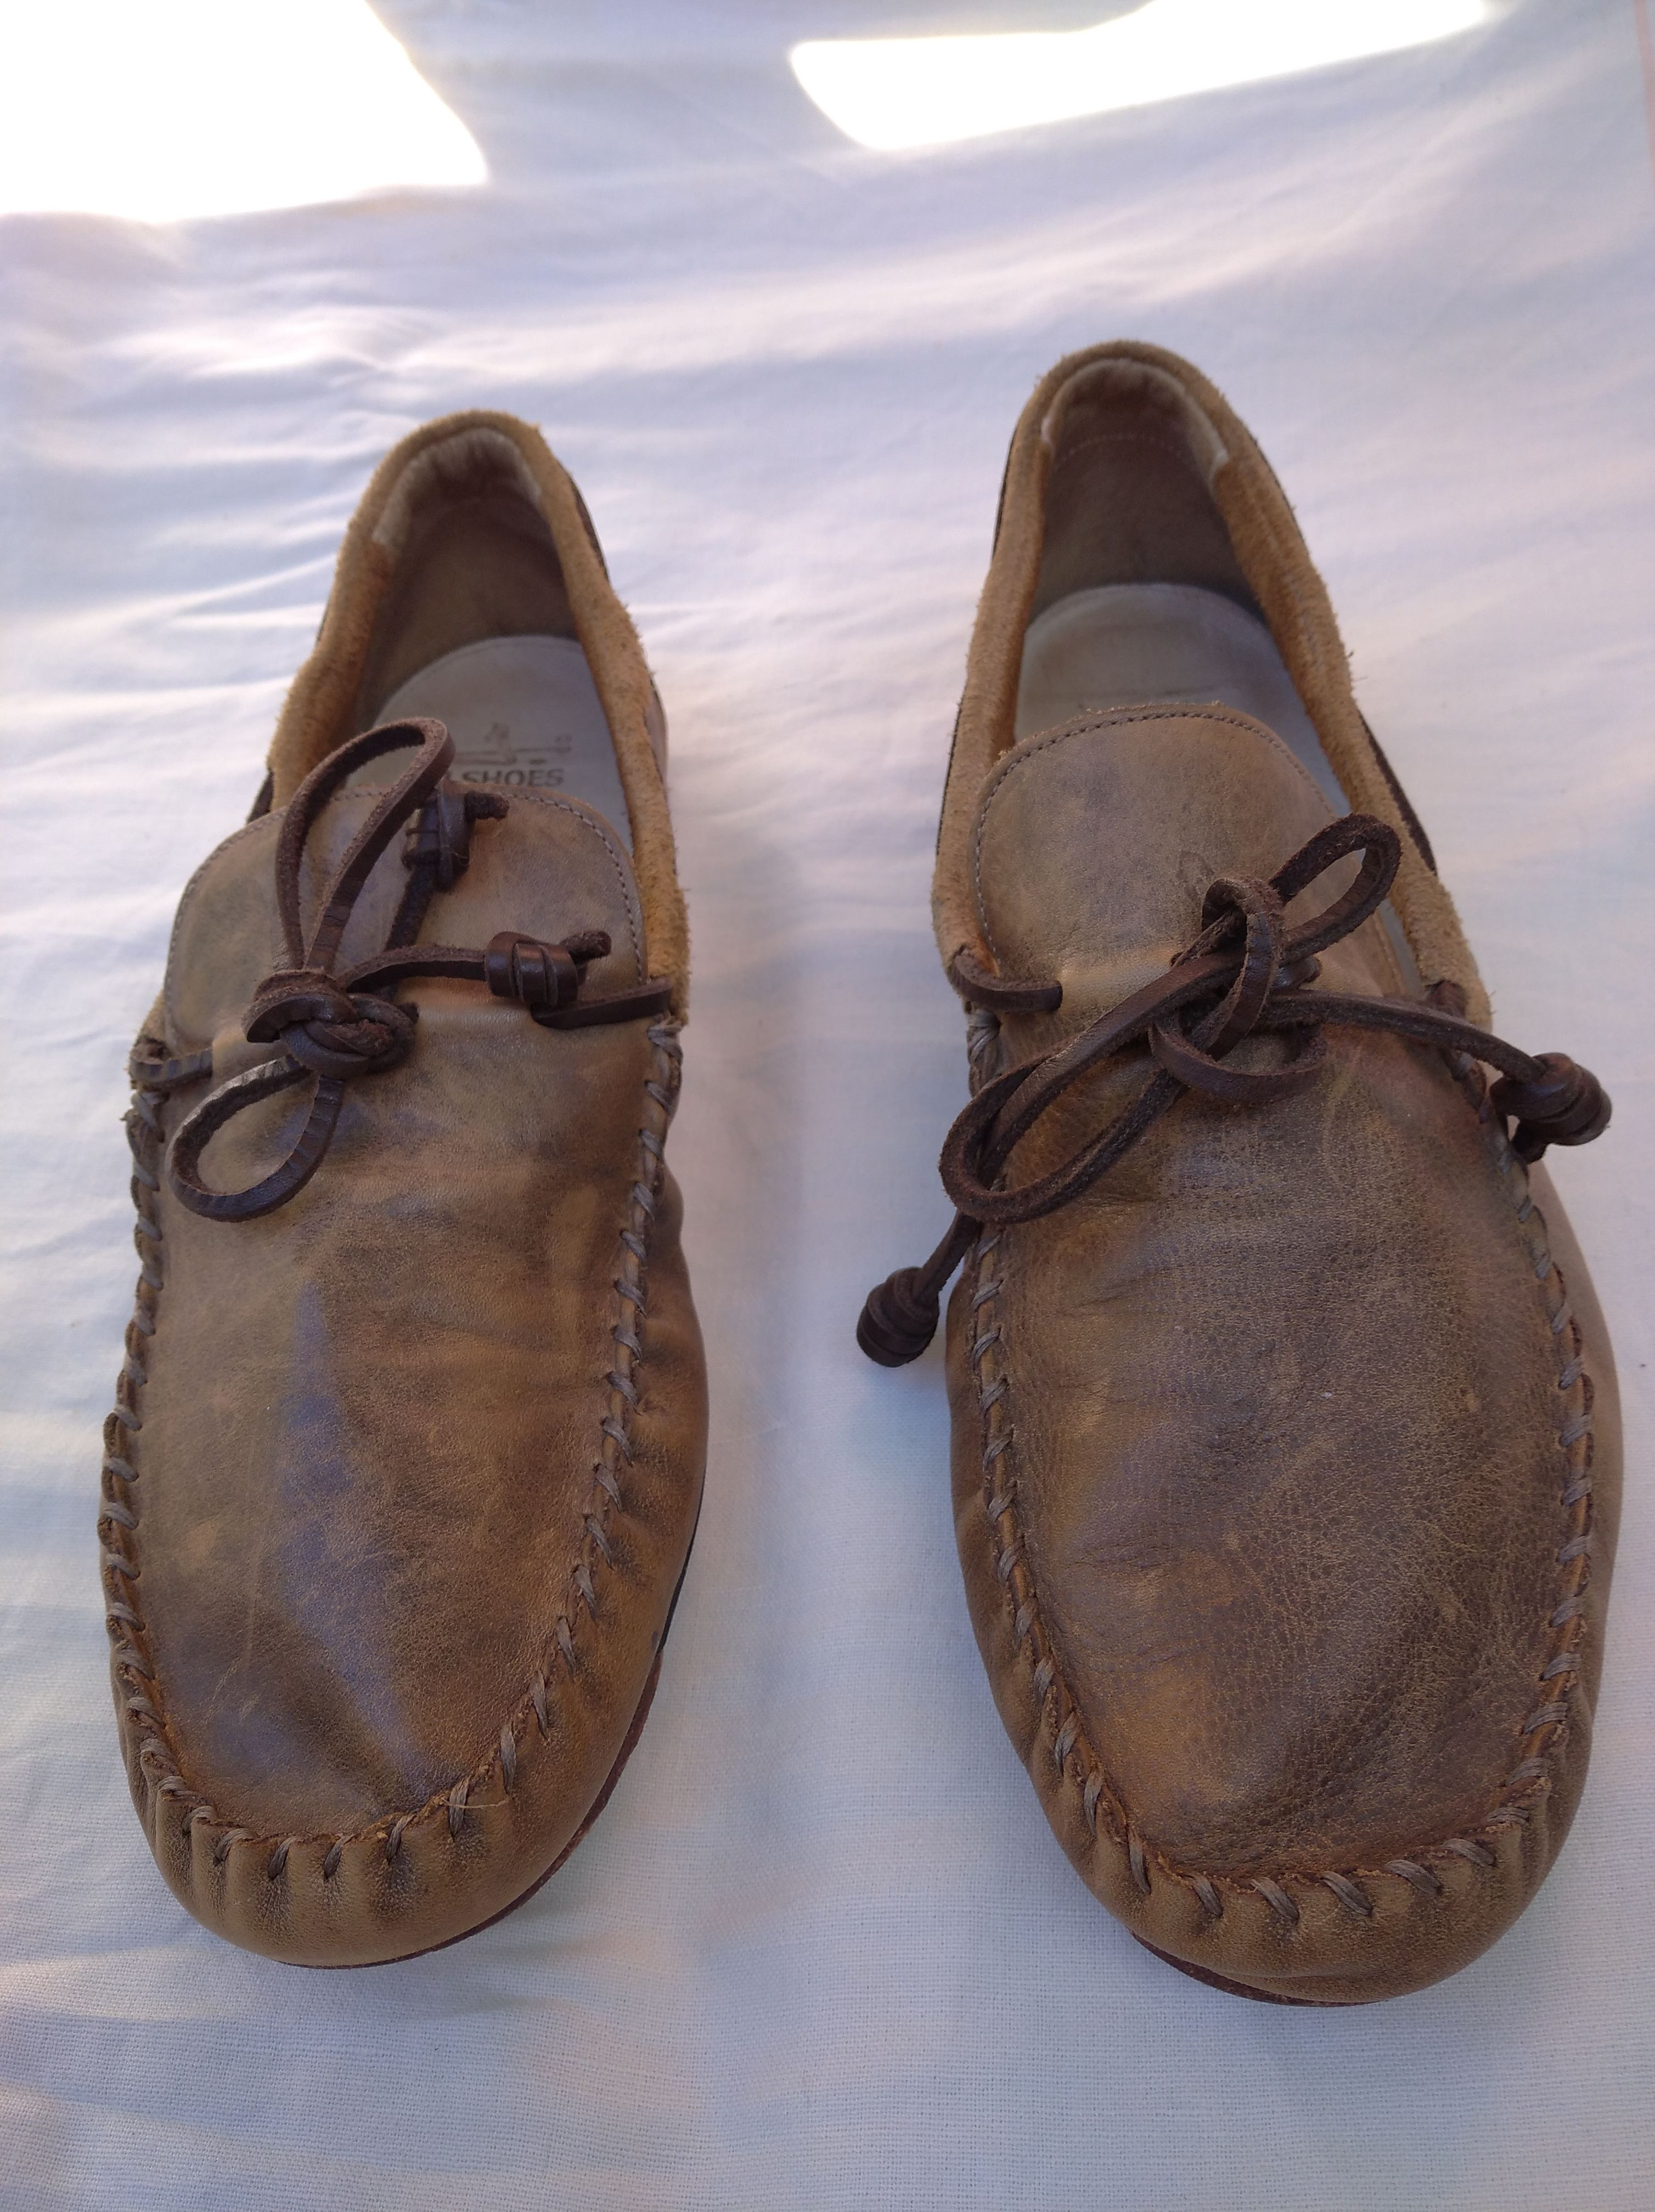clothes: (907, 321, 1618, 2021), (78, 400, 761, 1957)
